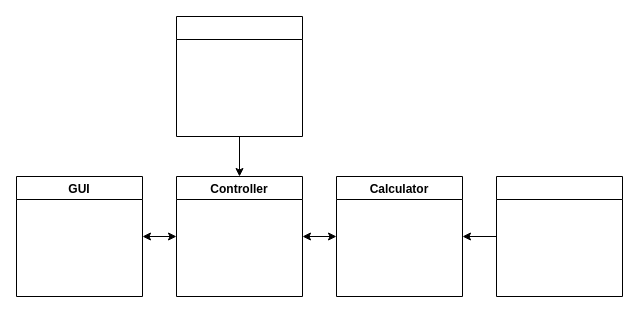
The diagram is 639 pixels wide and 313 high, and some of its shapes have lost their labels. The centre of each missing label's shape, as x and y in pixels:
JSON: (559,236)
Runner: (239,76)
